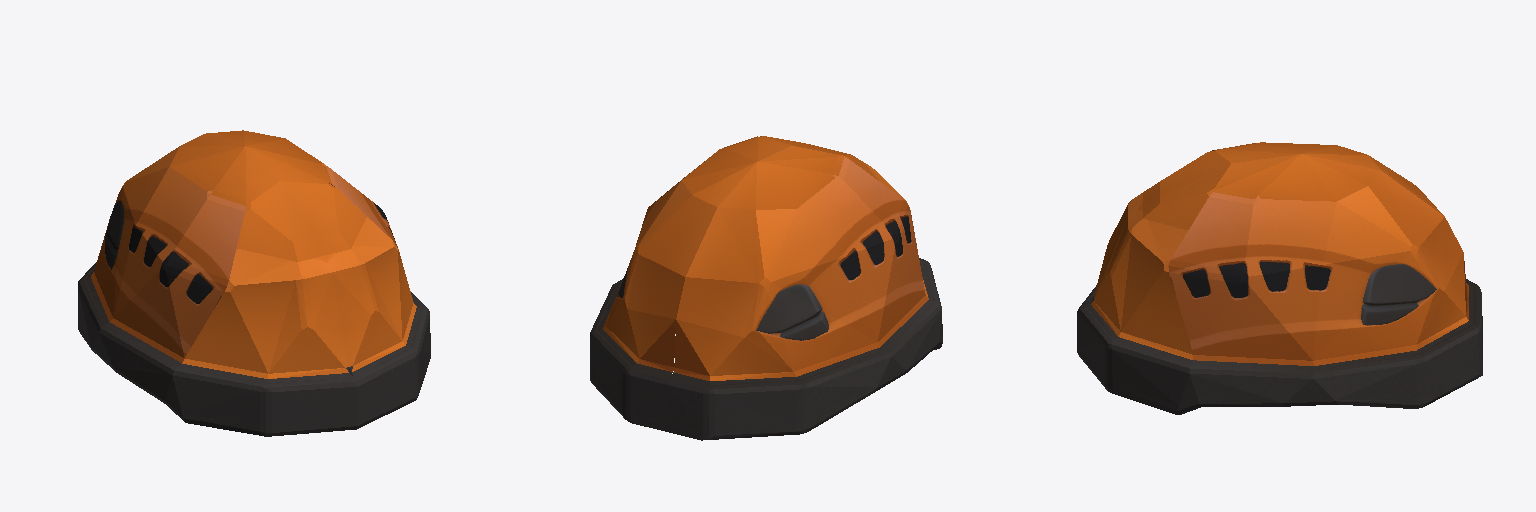
The picture shows the model from 3 angles: view 1: azimuth 30°, elevation 25°; view 2: azimuth 150°, elevation 25°; view 3: azimuth 270°, elevation 25°; orthographic projection.
Parts seen in each view (by area): view 1: Sphere; view 2: Sphere; view 3: Sphere.
Part boxes in pixels (x1,y1,x2,y2): Sphere: (78,130,430,436); Sphere: (590,136,942,440); Sphere: (1077,142,1482,414).
Size of the model in its own units: 0.2495 by 0.1728 by 0.3115.
Materials: 1 (1 with a texture image).